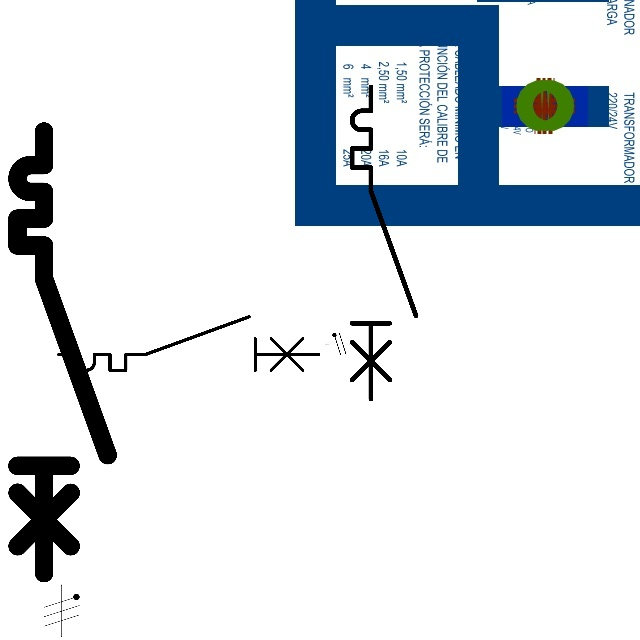interruptor_termomagnetico: (6, 120, 119, 584), (344, 79, 424, 407), (52, 310, 325, 377)
